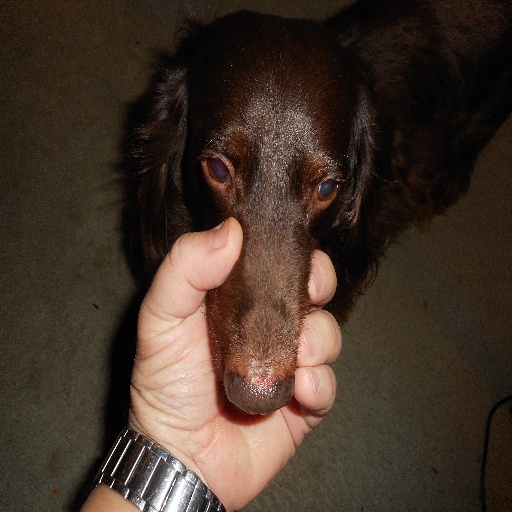hand: (128, 212, 342, 507)
